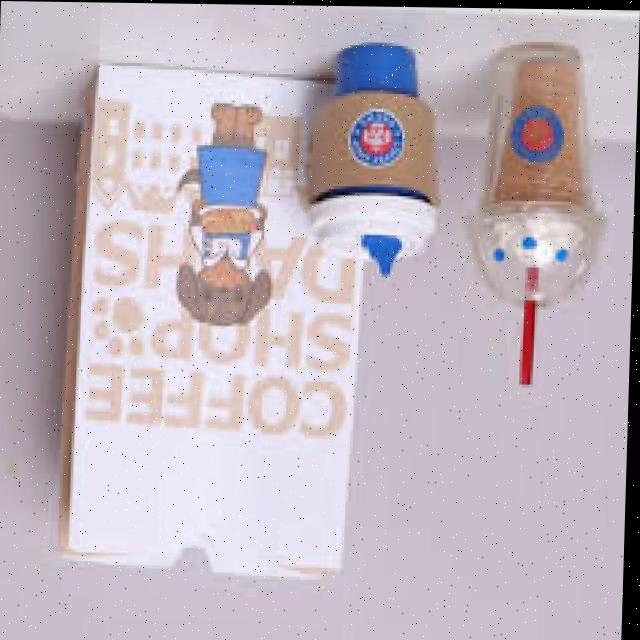cup: (311, 43, 439, 203), (485, 45, 590, 205)
